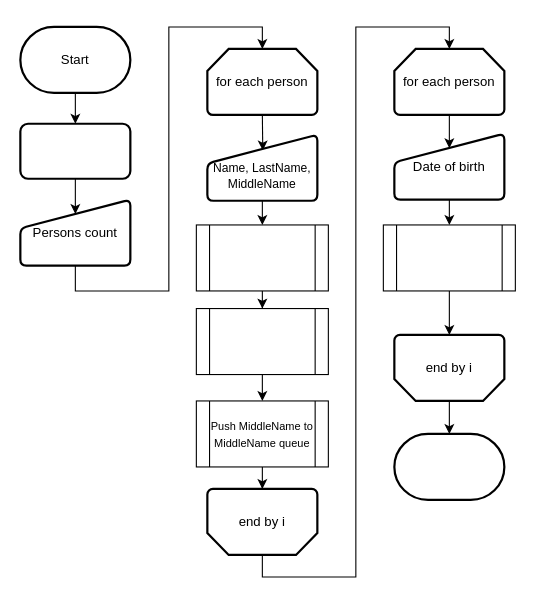
Some shapes in this 535 by 605 pixel diagram are drawn without their labels. Here are the shapes that lost their labels. From the top down, the centre of each, then its label:
pixel 75 150: Initialize FirstName, LastName, MiddleName queues
pixel 261 257: Push Name to FirstName queue
pixel 448 257: Push info to final queue
pixel 261 341: Push LastName to LastName queue
pixel 449 466: End
